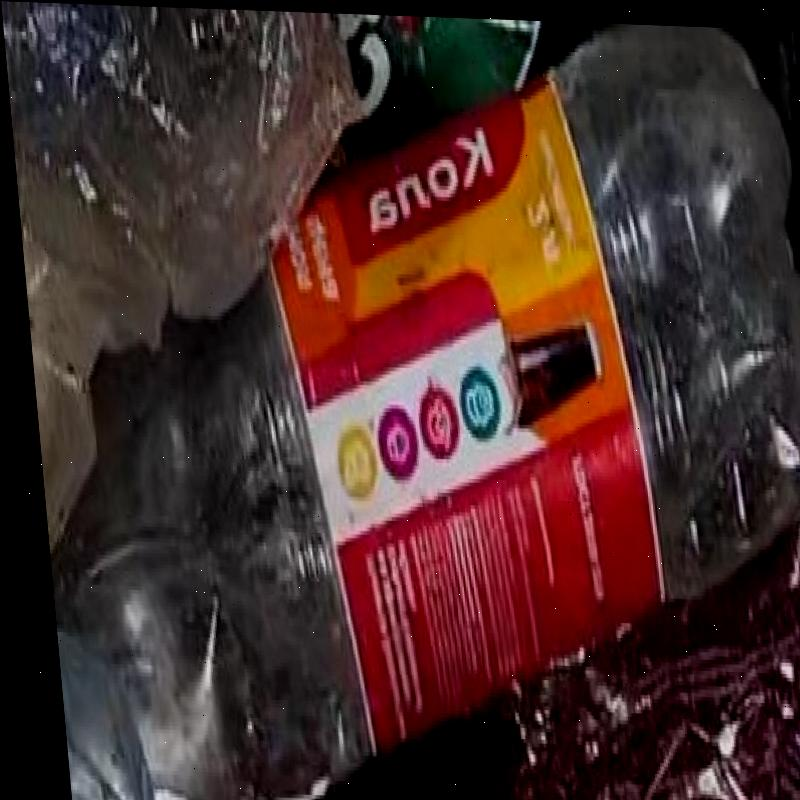botella: (0, 4, 800, 800)
